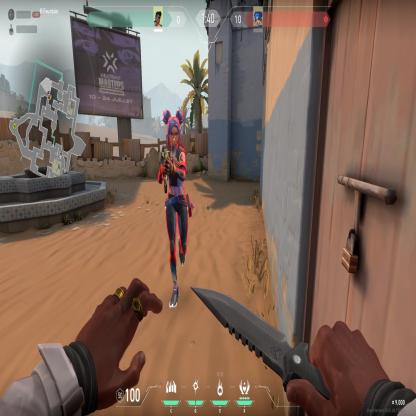enemy: (157, 106, 193, 312)
